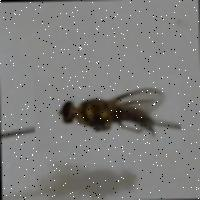Oriental-fruit-fly: (34, 74, 181, 152)
